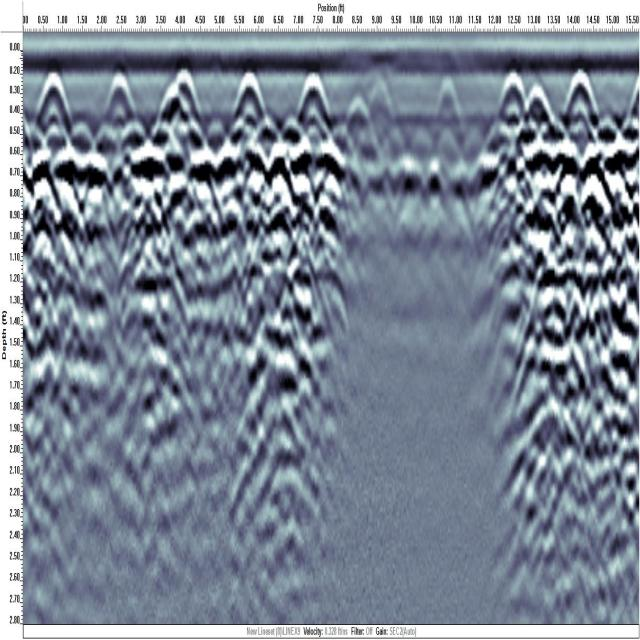hyperbola: (290, 65, 338, 135), (32, 65, 78, 136), (227, 68, 274, 130), (557, 66, 602, 128), (492, 67, 530, 128)
